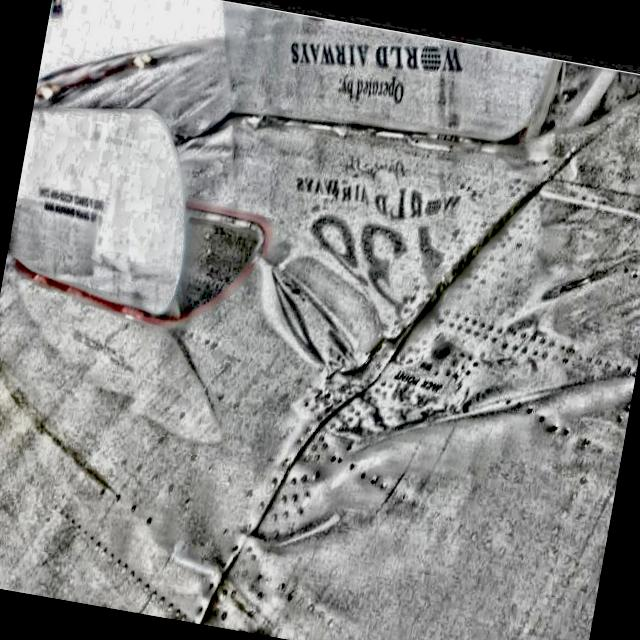crack: (320, 312, 410, 400)
